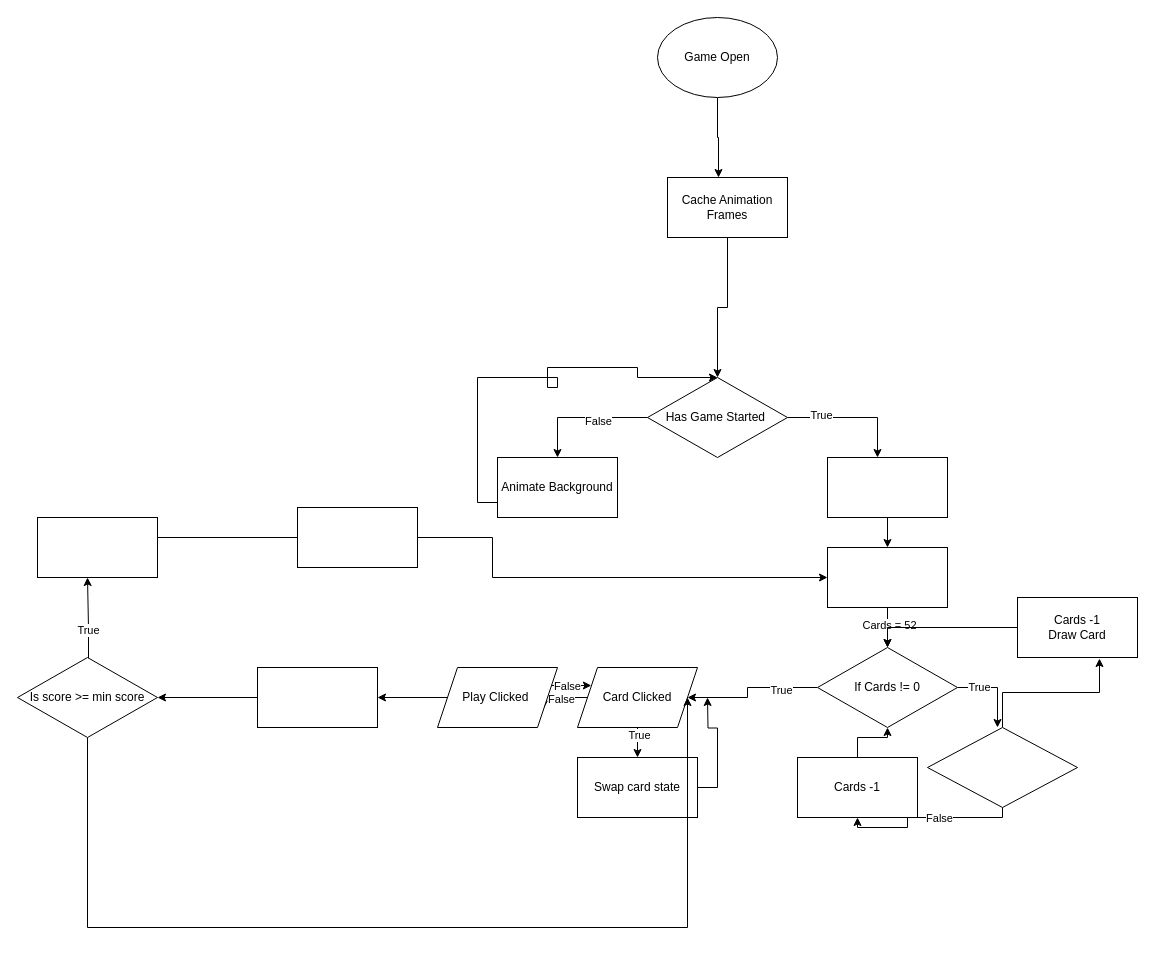
This 1155x953 diagram has some shape labels left out. Each missing label, with the box of its shape:
Animate Shop: (296, 506, 418, 568)
Is Card in hand: (926, 726, 1078, 808)
Open Shop: (36, 516, 158, 578)
Populate deck: (826, 546, 948, 608)
Score Selected Cards: (256, 666, 378, 728)
Start Main Game loop: (826, 456, 948, 518)
